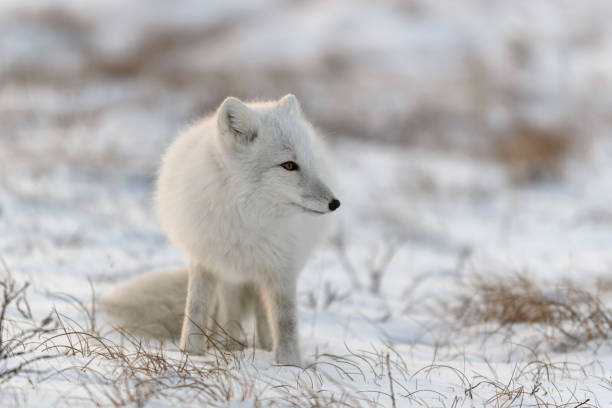arcticfox: (237, 125, 313, 221)
